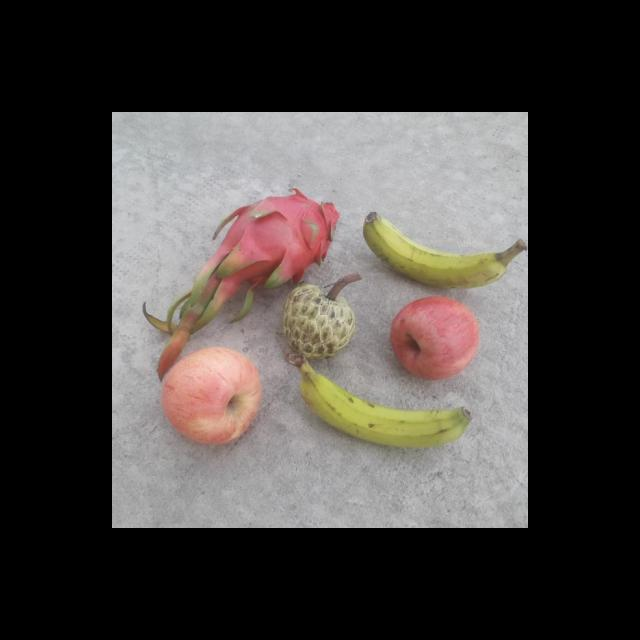Sakya fruit: (282, 281, 356, 362)
apple: (160, 344, 264, 446), (386, 294, 483, 384)
banana: (297, 368, 474, 452), (360, 205, 508, 288)
pitaya: (222, 190, 346, 288)
